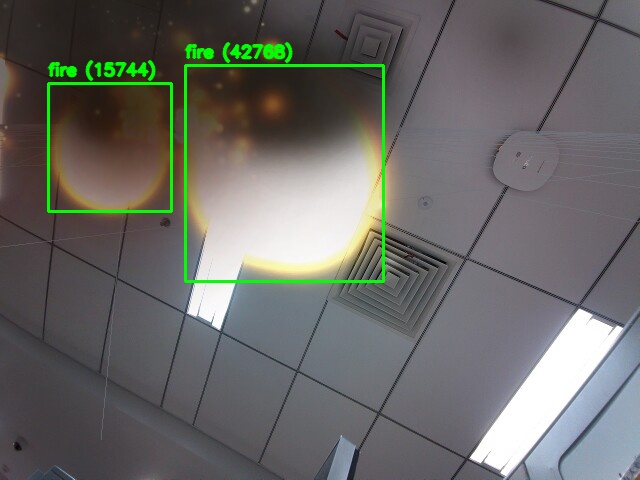fire: (185, 65, 383, 281), (48, 83, 171, 211)
